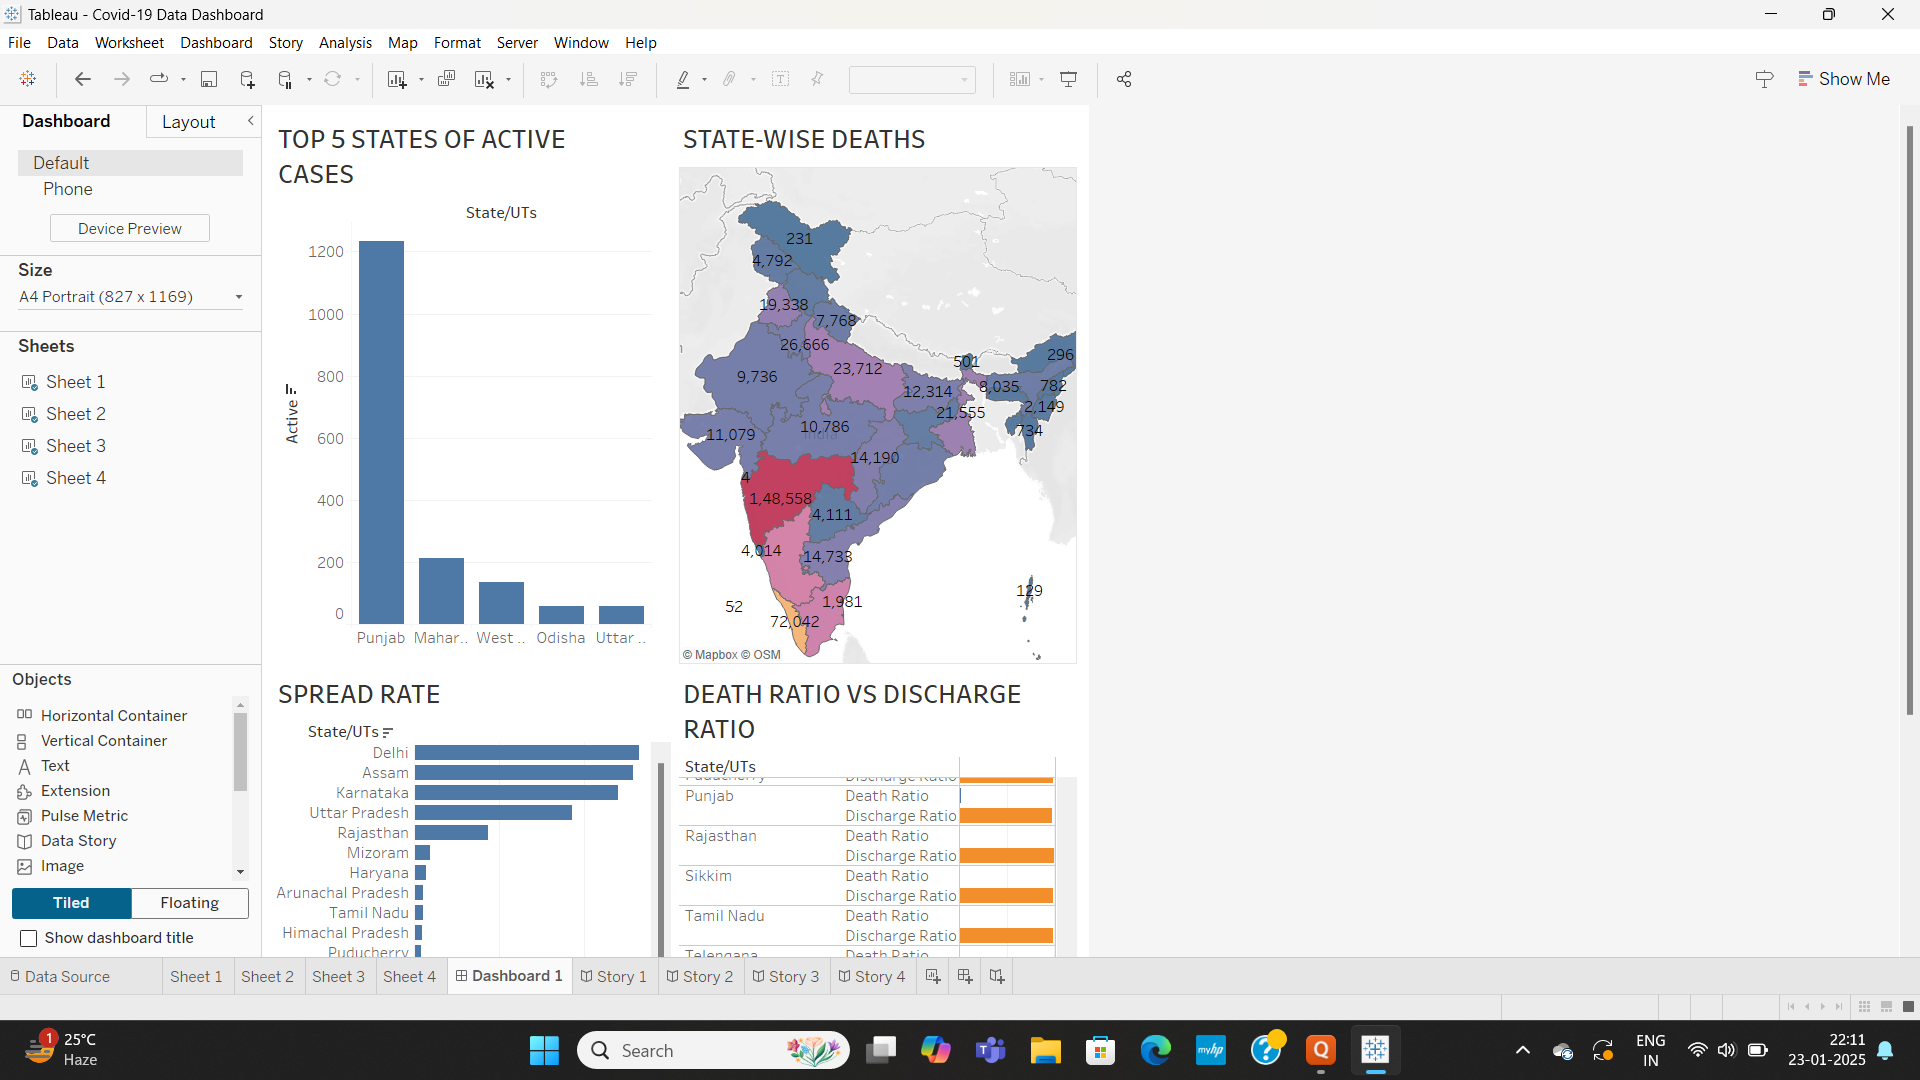

Layout of this report page (visuals, bound fields, positions):
{"tool":"tableau","page":{"name":"Dashboard 1","canvas":[827,1169],"ordinal":0},"visuals":[{"type":"worksheet","title":"Sheet 1","mark":"Bar","rows":["Active"],"cols":["State/UTs"],"box":[8,8,405.5,555]},{"type":"worksheet","title":"Sheet 2","mark":"Automatic","box":[413.5,8,405.5,555]},{"type":"worksheet","title":"Sheet 4","mark":"Automatic","rows":["State/UTs"],"cols":["Calculation_932245143780454400"],"box":[8,563,405.5,598]},{"type":"worksheet","title":"Sheet 3","mark":"Automatic","rows":["State/UTs"],"box":[413.5,563,405.5,566]},{"type":"blank","box":[413.5,1129,405.5,32]}]}

Visuals, with their boxes on the page's 827x1169 design canvas (x1, y1, x2, y2). These are canvas units, not pixel positions in the 1920x1080 screenshot, which may show the page scaled, cropped or inside an application window:
"Sheet 1" worksheet (Bar marks): BBox(8, 8, 414, 563)
"Sheet 2" worksheet: BBox(414, 8, 819, 563)
"Sheet 4" worksheet: BBox(8, 563, 414, 1161)
"Sheet 3" worksheet: BBox(414, 563, 819, 1129)
blank: BBox(414, 1129, 819, 1161)
